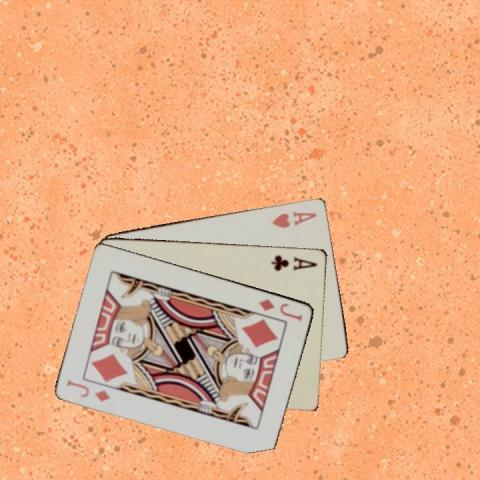Ac: (268, 252, 318, 272)
Ah: (268, 208, 318, 229)
Jd: (64, 376, 113, 403), (257, 295, 304, 323)
